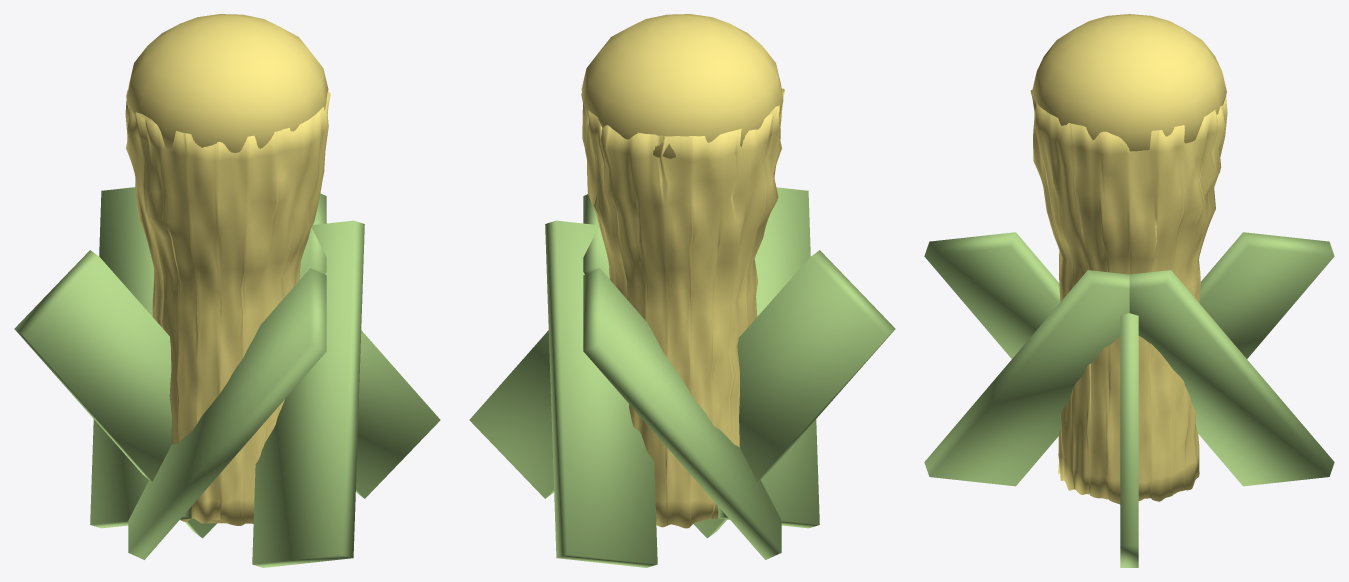
Rendered from Corn.glb.
3 renders of one model, left to right at view 1: azimuth 30°, elevation 25°; view 2: azimuth 150°, elevation 25°; view 3: azimuth 270°, elevation 25°, orthographic. The views are drawn at different scales.
Parts seen in each view (by area): view 1: Corn; view 2: Corn; view 3: Corn.
Boxes of the visible parts, bbox=[...] form: Corn: bbox=[14, 14, 440, 567]; Corn: bbox=[469, 14, 895, 567]; Corn: bbox=[924, 14, 1334, 567].
Size of the model in its own units: 0.8744 by 1.01 by 0.7786.
